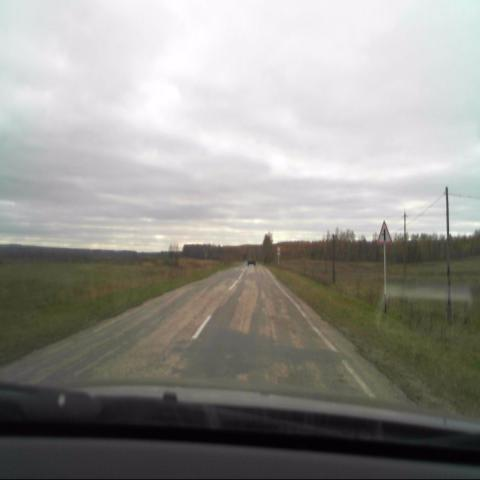2_3_3: (377, 218, 393, 244)
